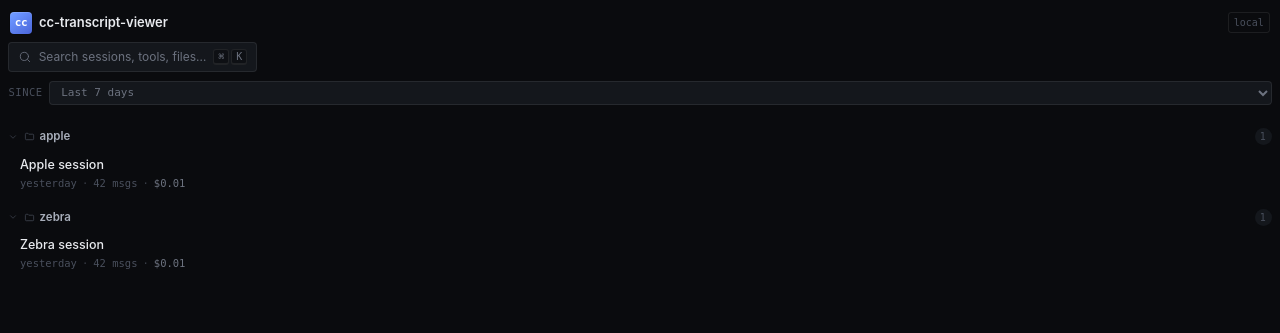
Test case: Sidebar — project sorting and time filter › hides sessions outside the selected time window and reveals them on "All time"
The image size is (1280, 333).
Expected: the text "Apple session" is shown, [20, 157, 104, 172]
Expected: the text "Ancient session" is not shown
Select "All time" in the dropdown at (660, 93), box [49, 81, 1272, 105]
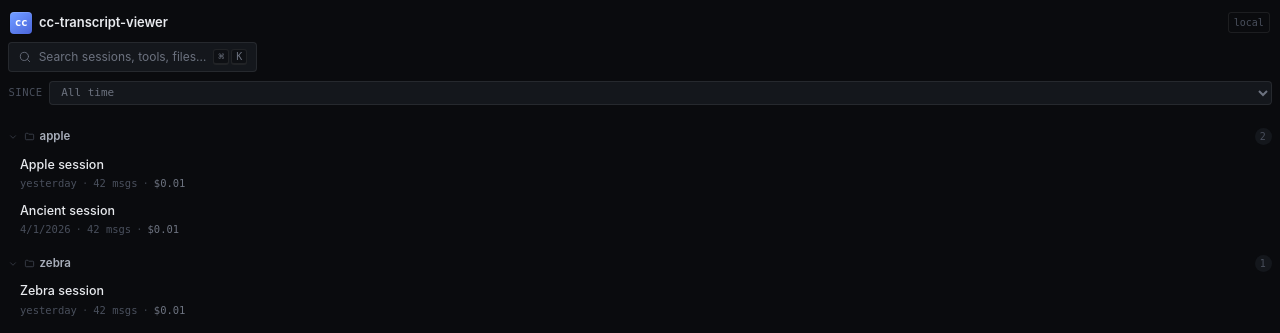
Now the text "Ancient session" is shown, box [20, 203, 115, 218]
